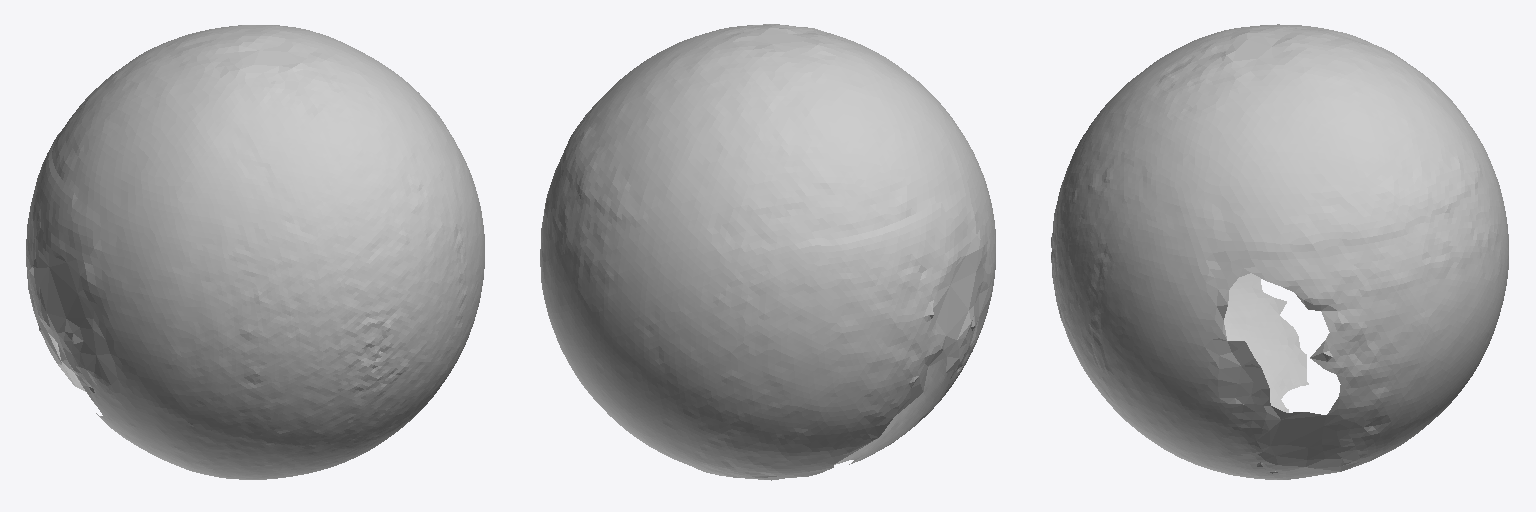
The model's file is Gridtest_0_1_1.000001.obj.
3 renders of one model, left to right at view 1: azimuth 30°, elevation 25°; view 2: azimuth 150°, elevation 25°; view 3: azimuth 270°, elevation 25°, orthographic.
Bounding box in the file's own units: 298 × 303 × 300.